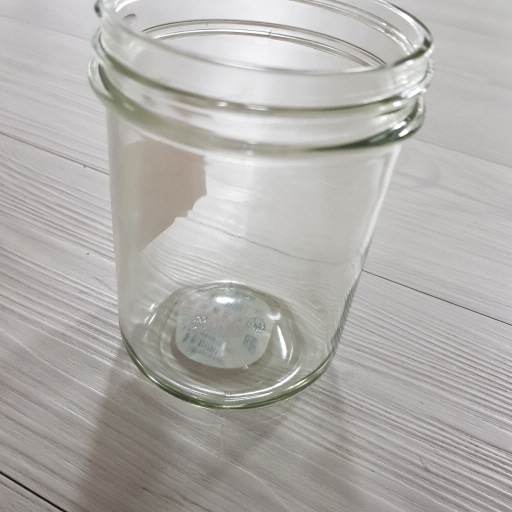Glass_5: (83, 1, 430, 410)
